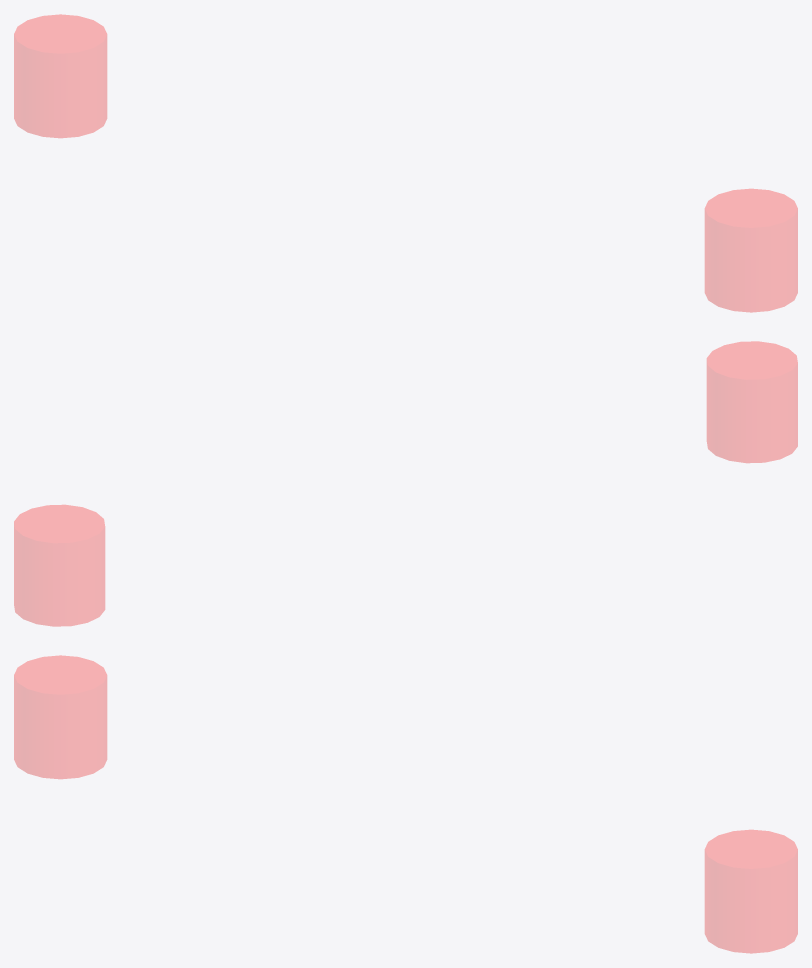
File: s03b_lb1-obstacles.glb
3 renders of one model, top to bottom at view 1: azimuth 90°, elevation 25°; view 2: azimuth 150°, elevation 25°; view 3: azimuth 270°, elevation 25°, orthographic.
Parts seen in each view (by area): view 1: boulder-colonly (×2); view 2: boulder-colonly (×2); view 3: boulder-colonly (×2).
Part boxes in pixels (x1,y1,x2,y2): boulder-colonly (×2): [14, 14, 797, 312]; boulder-colonly (×2): [14, 341, 797, 626]; boulder-colonly (×2): [14, 655, 797, 953].
Size of the model in its own units: 10.84 by 2 by 16.8.
